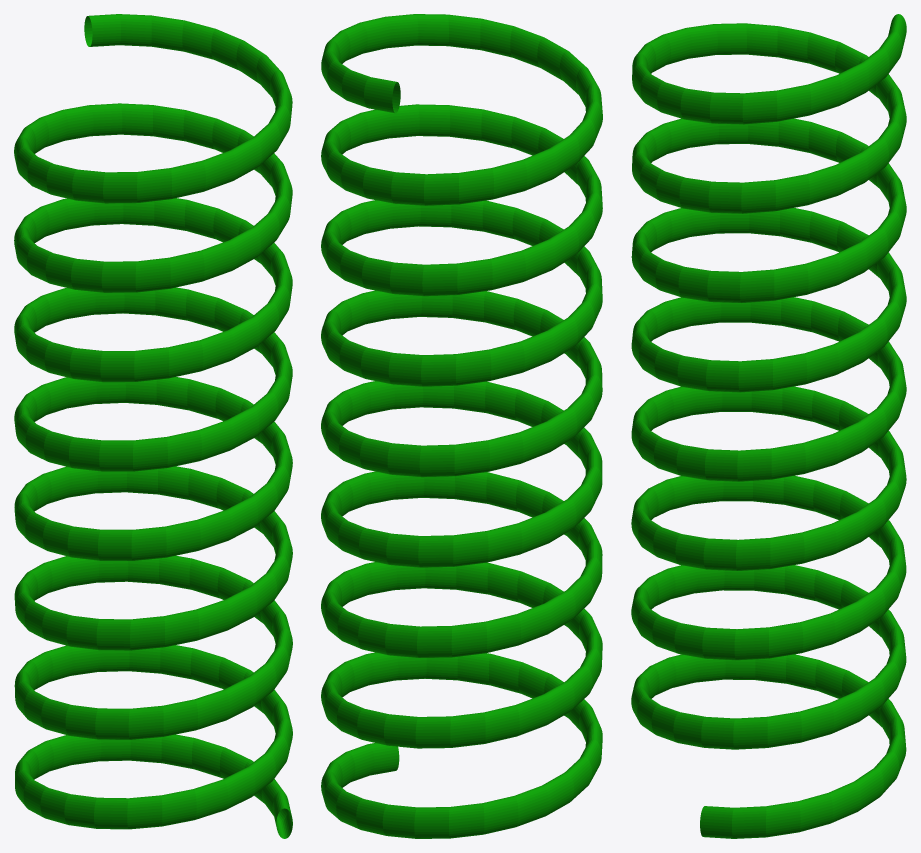
Rendered from Ressort.obj.
3 views of the same model, side by side, from view 1: azimuth 30°, elevation 25°; view 2: azimuth 150°, elevation 25°; view 3: azimuth 270°, elevation 25° (orthographic).
Visible parts, largest first — view 1: Circle; view 2: Circle; view 3: Circle.
Part boxes in pixels (x1,y1,x2,y2): Circle: [14, 14, 292, 838]; Circle: [321, 14, 602, 838]; Circle: [631, 14, 906, 838].
Size of the model in its own units: 39.14 by 120 by 38.58.
